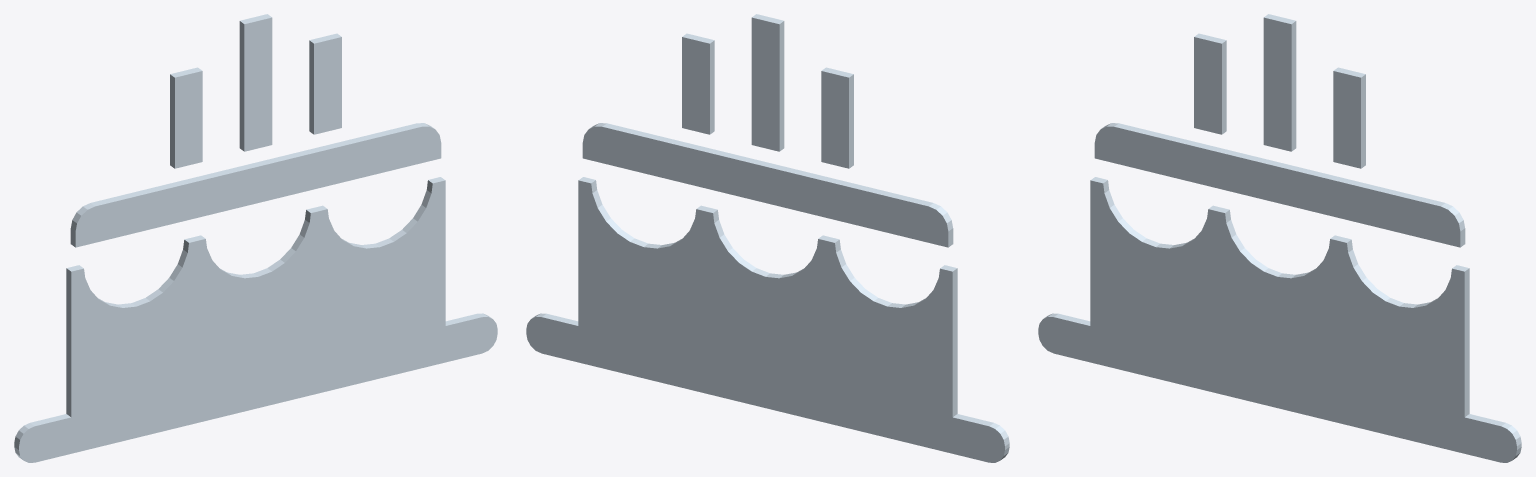
File: Cake_3D_Icon.fbx
3 renders of one model, left to right at view 1: azimuth 30°, elevation 25°; view 2: azimuth 150°, elevation 25°; view 3: azimuth 330°, elevation 25°, orthographic.
Parts seen in each view (by area): view 1: Cake_3D_Icon; view 2: Cake_3D_Icon; view 3: Cake_3D_Icon.
Boxes of the visible parts, x1,y1,x2,y2 form: Cake_3D_Icon: [14, 14, 497, 462]; Cake_3D_Icon: [526, 14, 1009, 462]; Cake_3D_Icon: [1038, 14, 1521, 462].
Size of the model in its own units: 115 by 89.29 by 2.
